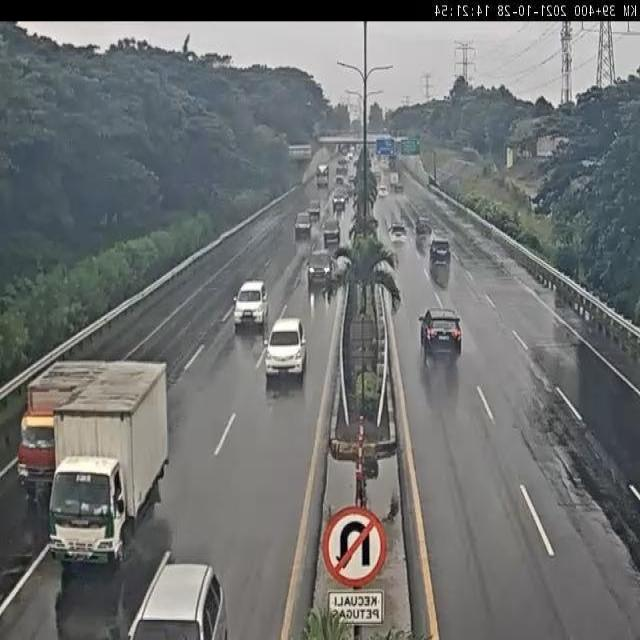Bus: (316, 164, 330, 187)
Car: (130, 558, 230, 640), (263, 317, 308, 381), (418, 307, 464, 360), (232, 278, 268, 329), (305, 249, 334, 286), (429, 238, 451, 266), (323, 217, 341, 246), (294, 212, 312, 237), (388, 222, 408, 244), (416, 215, 432, 236), (332, 192, 346, 210), (308, 201, 321, 219), (378, 184, 388, 198), (394, 184, 404, 195), (348, 174, 355, 183)
Truck: (48, 361, 172, 567), (17, 358, 108, 504), (389, 170, 399, 186)
